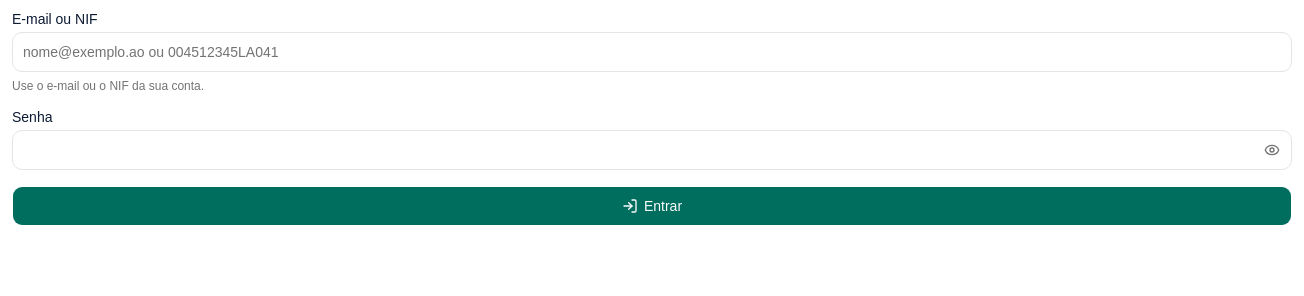
Test: LoginForm › mostra erro genérico com credenciais inválidas e limpa a senha
The image size is (1304, 296).
Type "ana@exemplo.ao" into the field labelled "E-mail ou NIF" at (652, 52), box [12,32,1292,72]
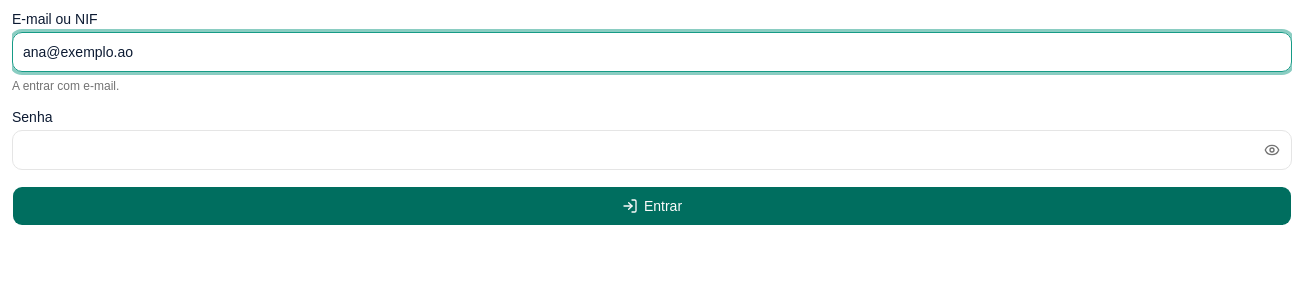
Type "errada" into the password field labelled "Senha" at (652, 150), box [12,130,1292,170]
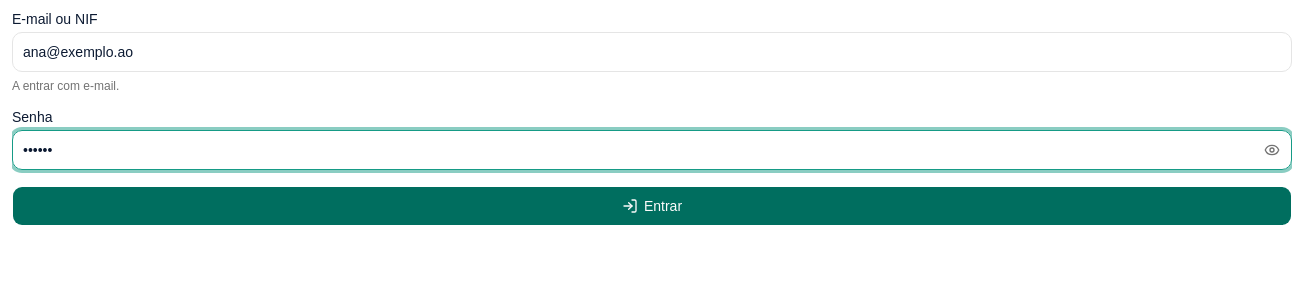
Click the button "Entrar" at (652, 206), box [12,186,1292,226]
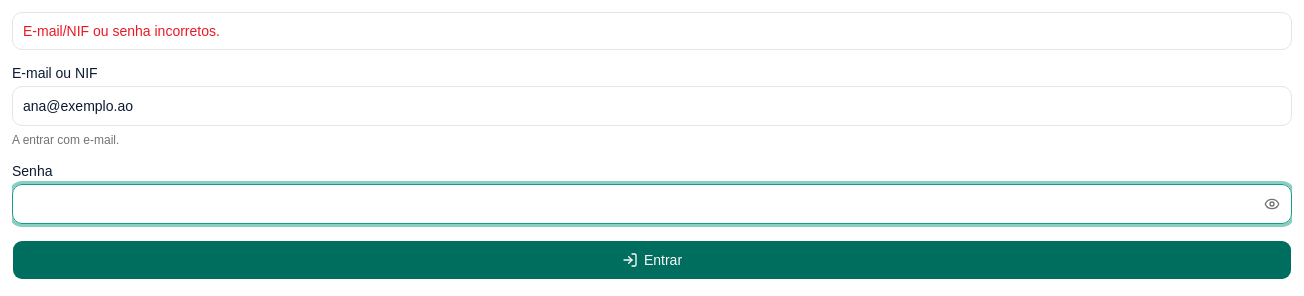
Expected: the text "E-mail/NIF ou senha incorretos." is shown, [23,23,220,39]
Expected: the password field labelled "Senha" is empty, [12,184,1292,224]
